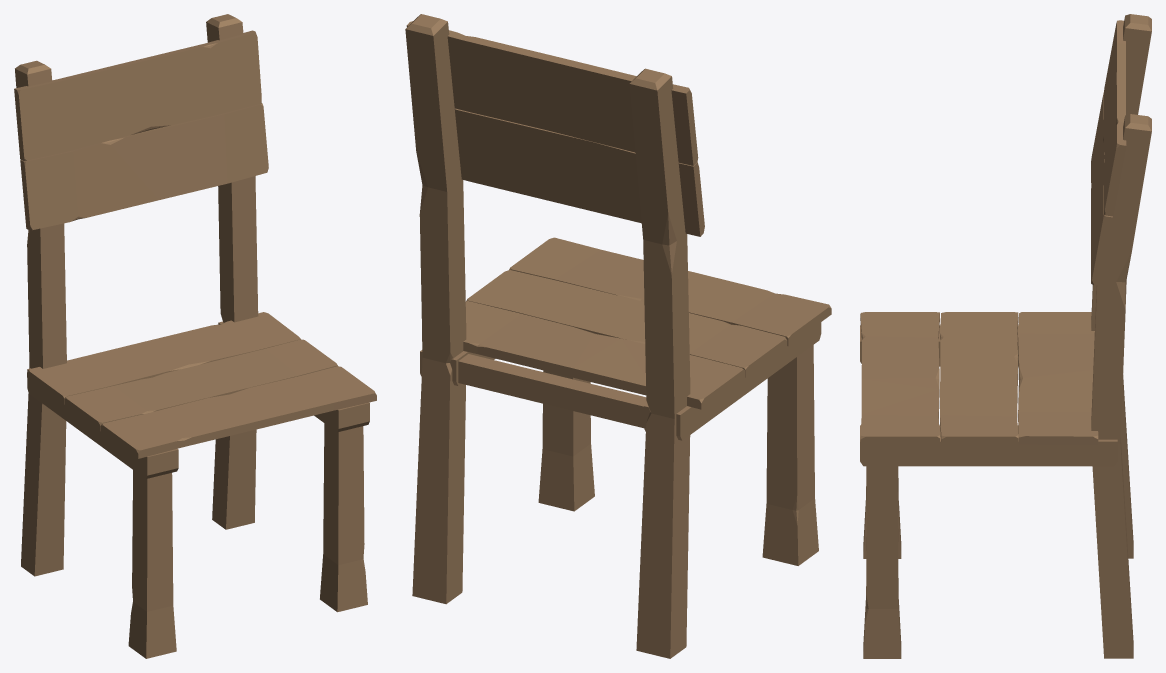
The model's file is chair.glb.
3 views of the same model, side by side, from view 1: azimuth 30°, elevation 25°; view 2: azimuth 150°, elevation 25°; view 3: azimuth 270°, elevation 25° (orthographic). The views are drawn at different scales.
Visible parts, largest first — view 1: Chair_V1; view 2: Chair_V1; view 3: Chair_V1.
Part boxes in pixels (<box>): Chair_V1: <box>14,14,376,658</box>; Chair_V1: <box>405,14,831,658</box>; Chair_V1: <box>860,14,1151,658</box>.
Size of the model in its own units: 0.4992 by 0.9939 by 0.4938.
